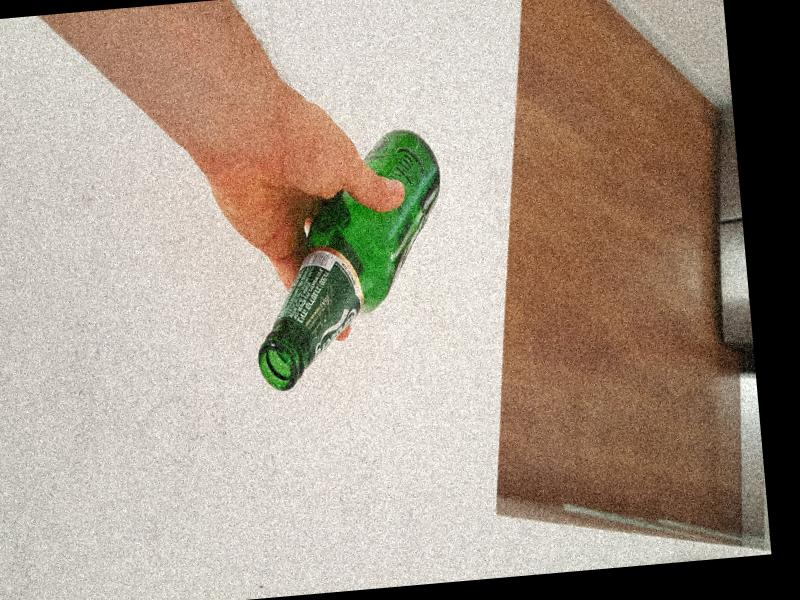Beer: (236, 128, 456, 395)
